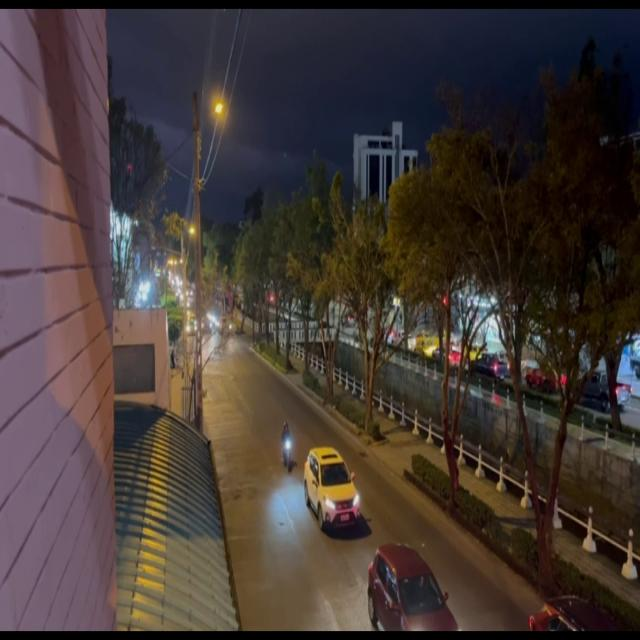MOTORCYCLE: (280, 434, 294, 474)
